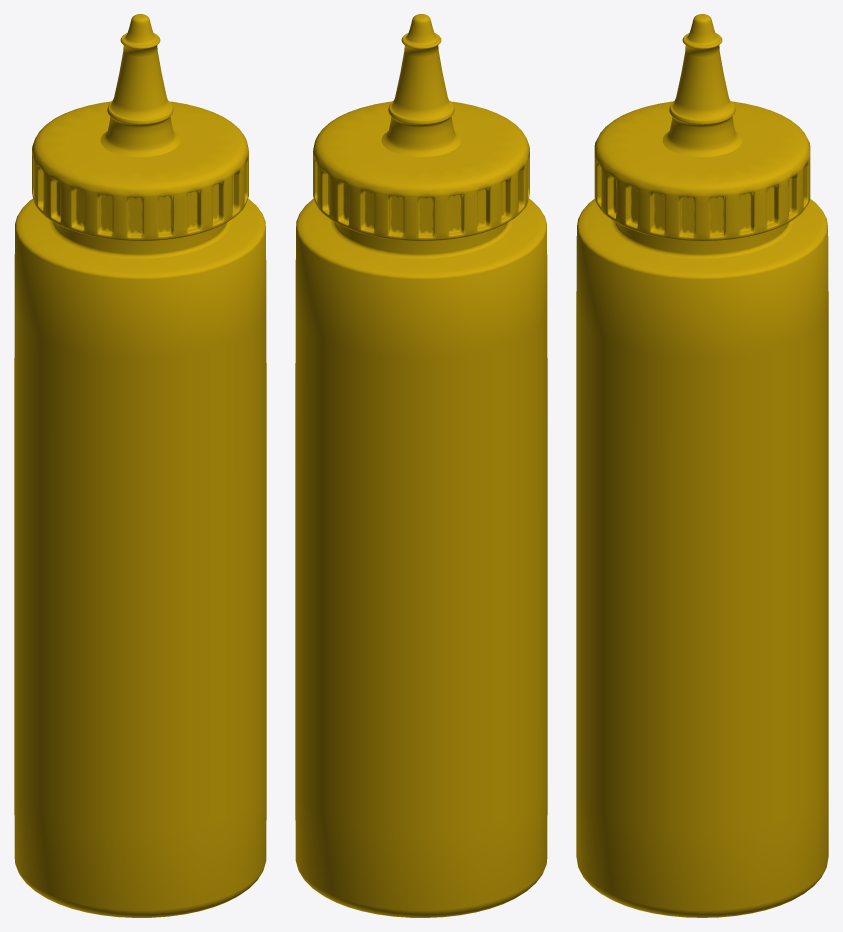
Rendered from SM_Musterd.FBX.
The picture shows the model from 3 angles, left to right: view 1: azimuth 30°, elevation 25°; view 2: azimuth 150°, elevation 25°; view 3: azimuth 270°, elevation 25°; orthographic projection.
Visible parts, largest first — view 1: SM_Musterd; view 2: SM_Musterd; view 3: SM_Musterd.
Boxes of the visible parts, x1,y1,x2,y2 form: SM_Musterd: (14,14,266,917); SM_Musterd: (295,14,547,917); SM_Musterd: (576,14,828,917).
Size of what is drawn, in the model's own units: 4.85 by 4.85 by 18.1.
